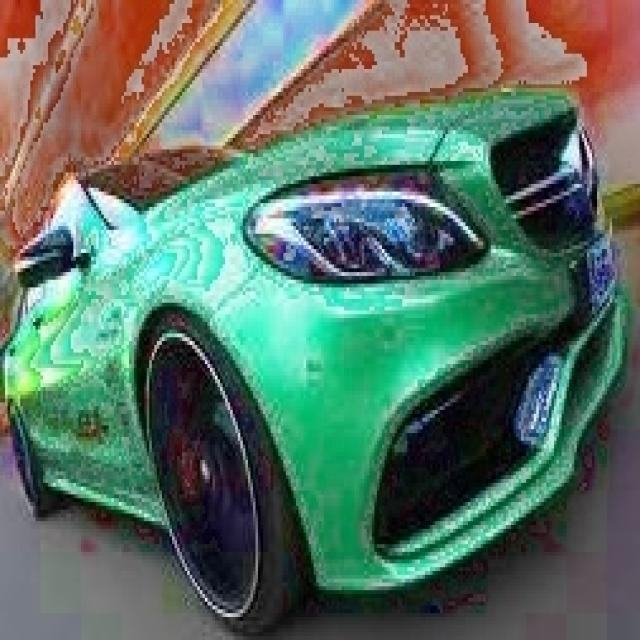green: (0, 78, 637, 634)
